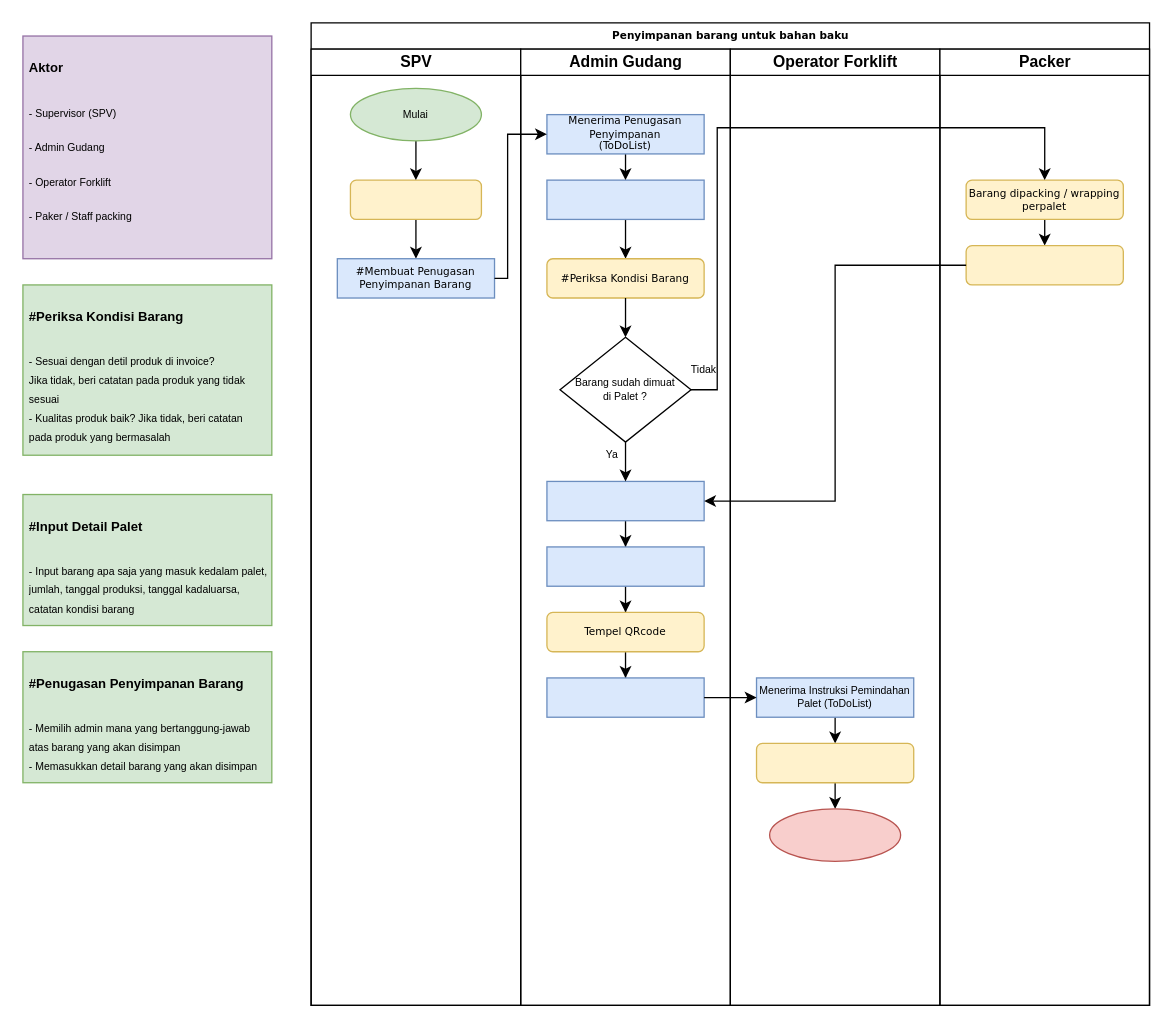
This 1172x1028 diagram has some shape labels left out. The centre of each missing label's shape, as x and y in pixels:
#Input Detail Palet: the point at 625,500
Generate QRcode: the point at 625,566
Laporkan ke Admin: the point at 1044,264
Memilih Rak Tujuan: the point at 625,697
Menerima Detail Barang: the point at 625,199
Palet ditempatkan sesuai rak yang diinstruksikan: the point at 834,762
Selesai: the point at 834,834
Terima Invoice: the point at 415,199
